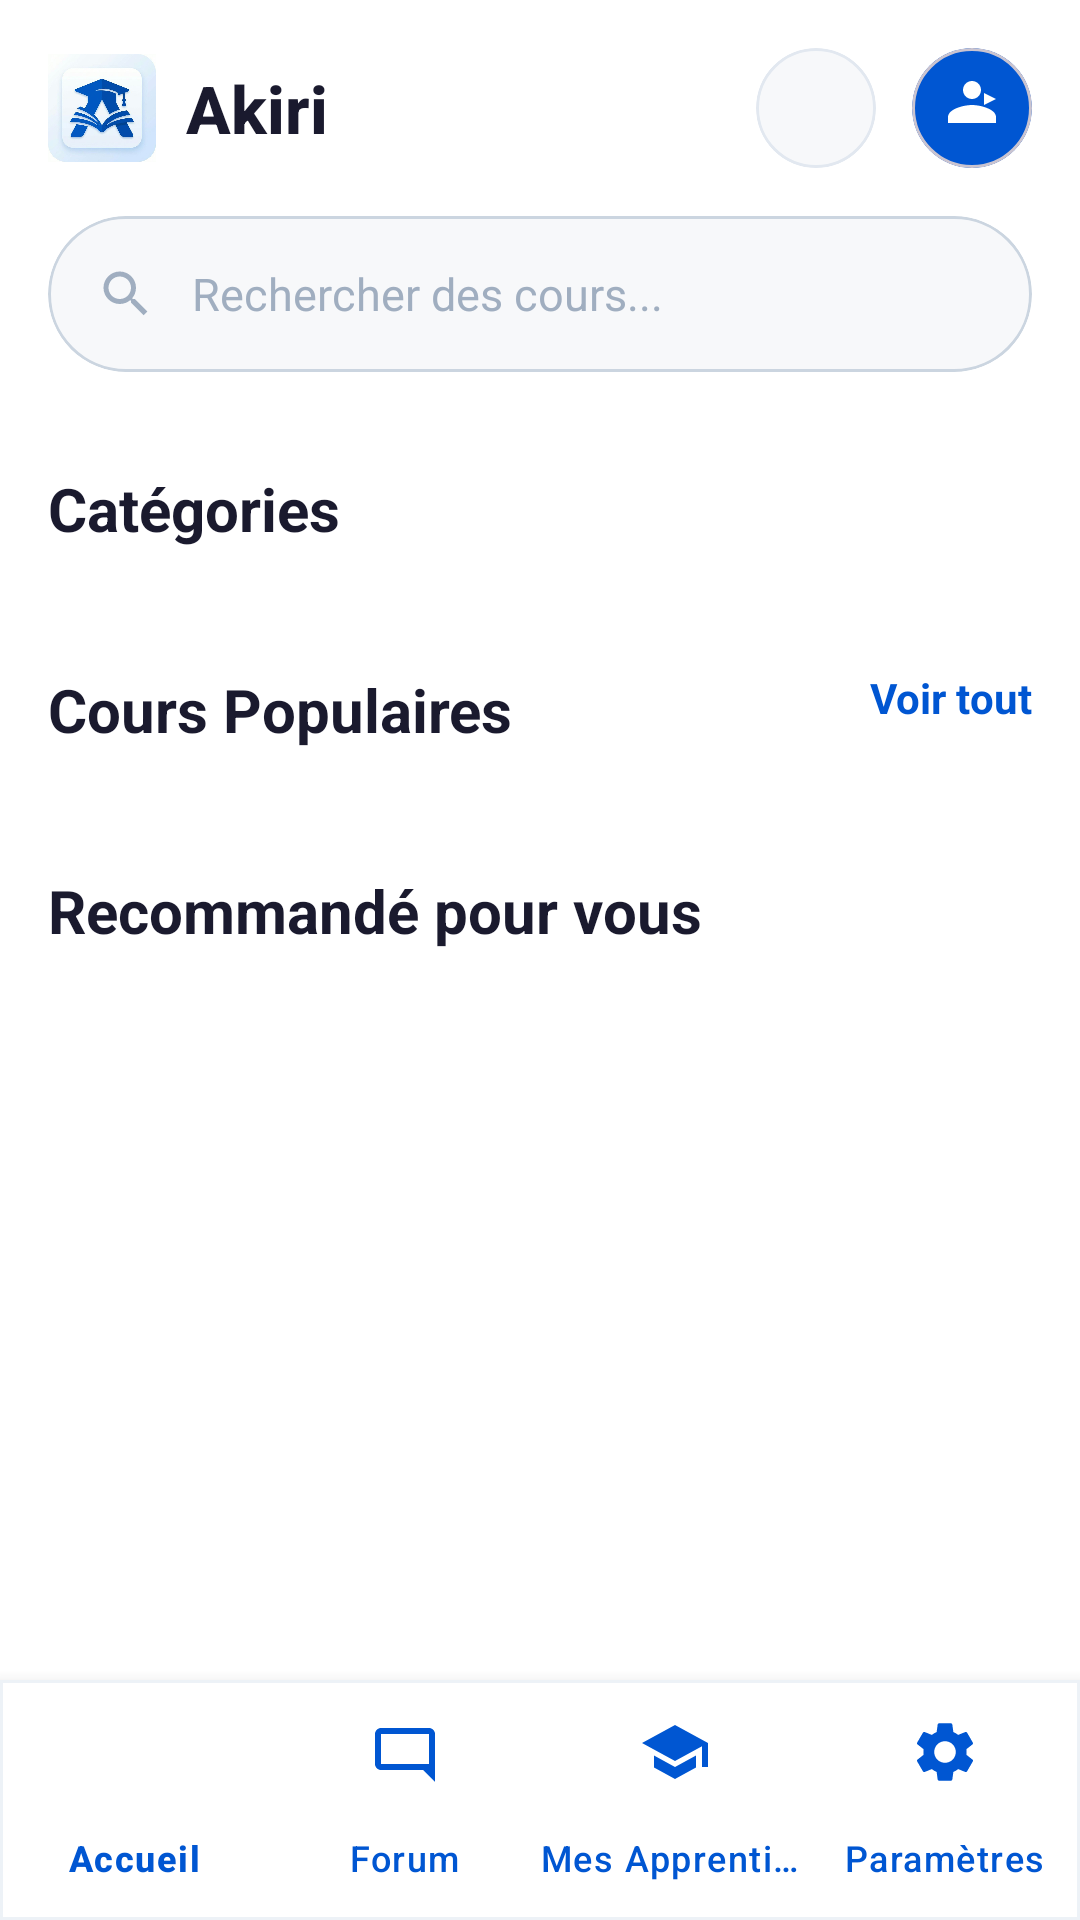

Where to tap for icons on this 1080 x 1920 app screen, as (x,y):
search: (125,293)
trainer: (972,108)
